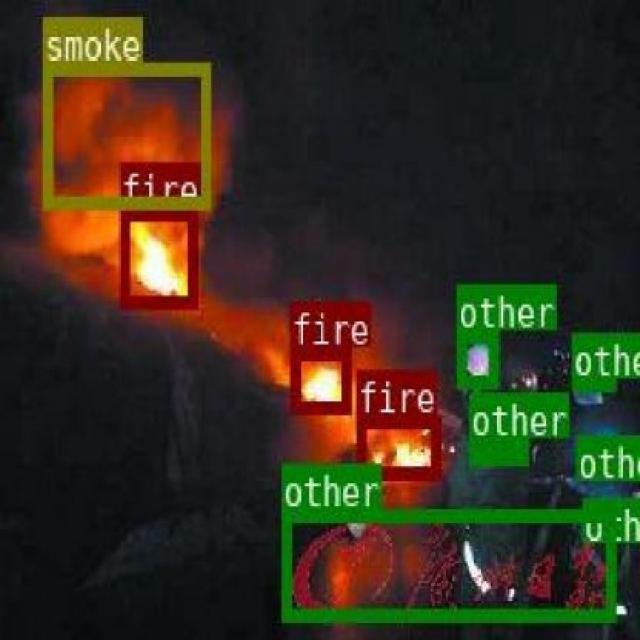Fire: (120, 206, 194, 306), (354, 413, 440, 478), (290, 346, 348, 411)
Smoke: (41, 62, 207, 206)
